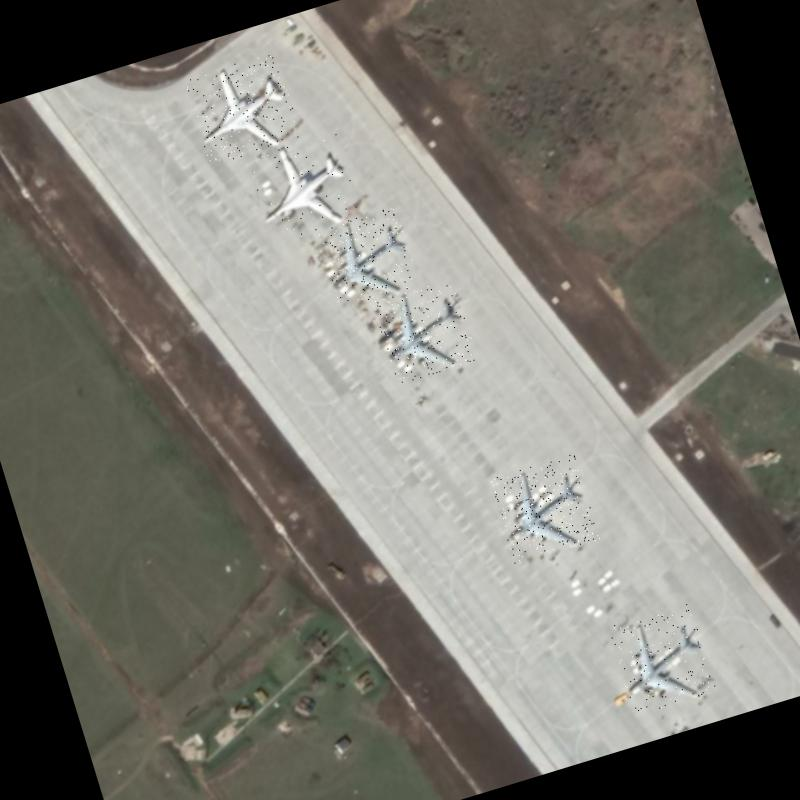A17: (608, 602, 718, 716), (490, 454, 600, 565), (372, 277, 479, 385), (316, 206, 420, 310)
A6: (246, 128, 364, 244), (184, 51, 302, 166)
